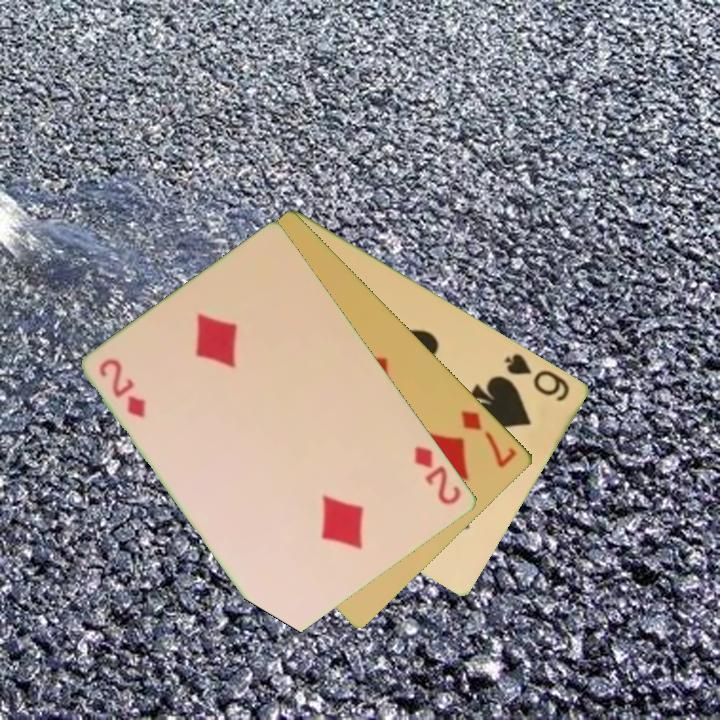2d: (95, 354, 150, 421), (411, 442, 465, 508)
6s: (501, 349, 574, 404)
7d: (458, 406, 520, 471)
